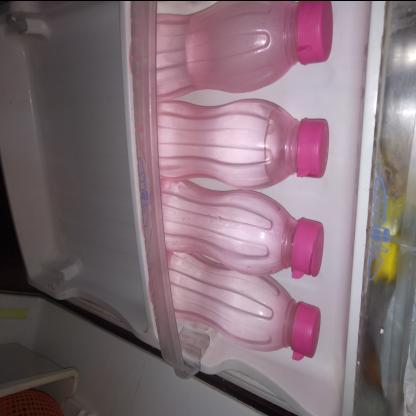bottle: (129, 1, 333, 102), (151, 246, 323, 365), (145, 99, 331, 193), (154, 182, 326, 280)
